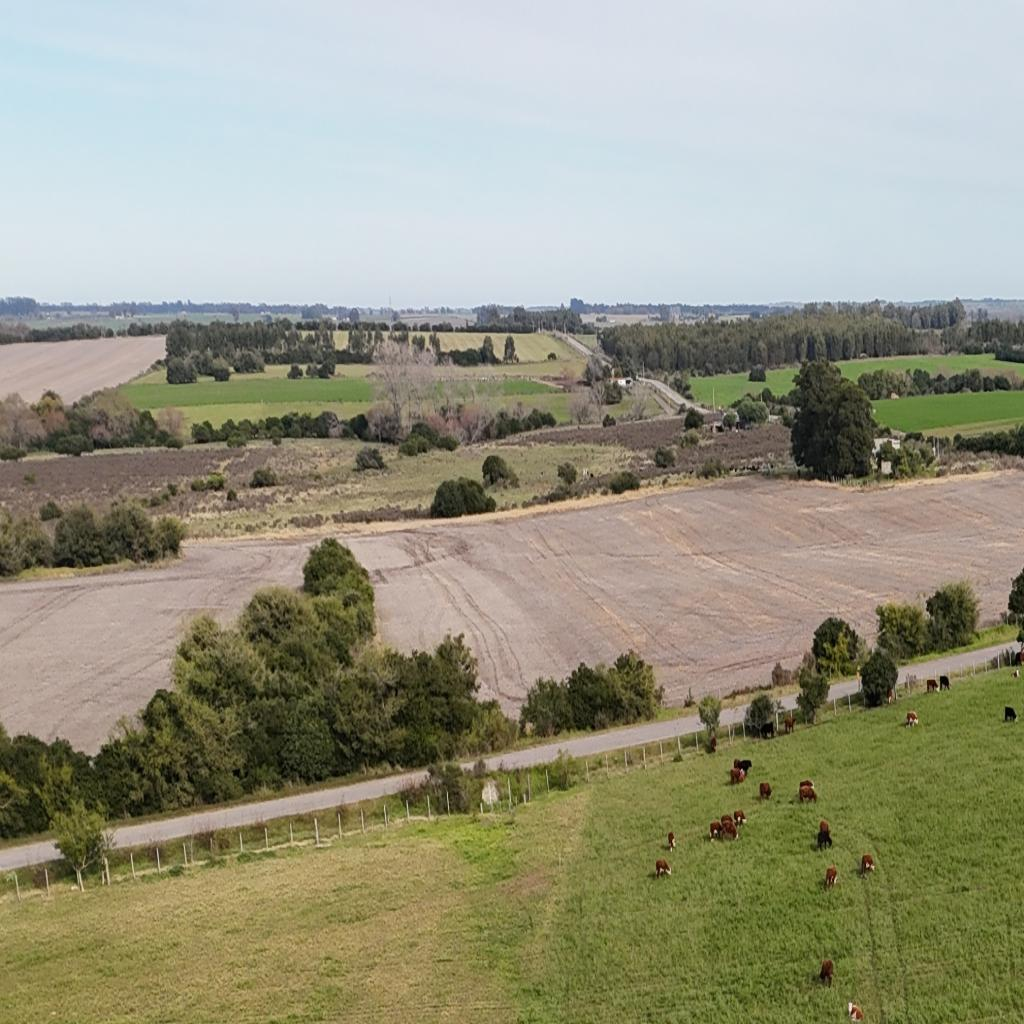cow: (798, 782, 817, 805), (820, 958, 834, 987), (721, 820, 739, 842), (847, 1001, 864, 1022), (817, 828, 833, 850), (861, 854, 875, 877), (655, 858, 671, 878), (825, 866, 838, 890), (759, 722, 775, 740), (709, 820, 722, 842), (759, 782, 772, 802), (731, 768, 745, 784), (925, 678, 939, 694), (1004, 706, 1018, 722), (905, 712, 919, 728), (784, 716, 795, 735), (939, 675, 951, 691), (667, 832, 675, 852), (740, 760, 752, 771), (886, 688, 893, 705), (1017, 649, 1024, 666), (710, 737, 716, 754), (1012, 669, 1020, 680)
